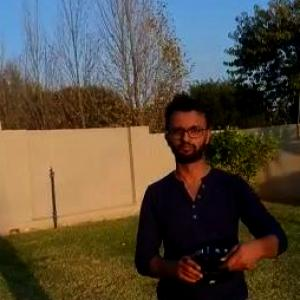follow: (130, 85, 295, 299)
